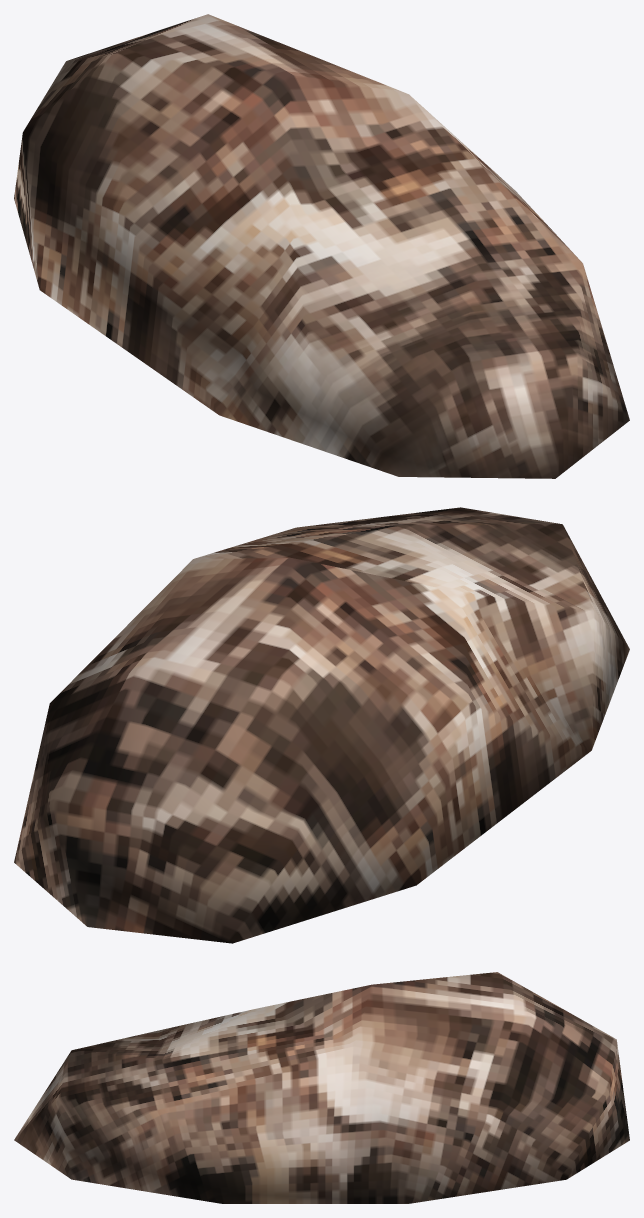
File: Bones_2.fbx
The picture shows the model from 3 angles, top to bottom: view 1: azimuth 30°, elevation 25°; view 2: azimuth 150°, elevation 25°; view 3: azimuth 270°, elevation 25°; orthographic projection. The views are drawn at different scales.
Visible parts, largest first — view 1: Icosphere.002; view 2: Icosphere.002; view 3: Icosphere.002.
Part boxes in pixels (x1,y1,x2,y2): Icosphere.002: (14,14,629,478); Icosphere.002: (14,507,629,943); Icosphere.002: (14,972,629,1203).
Size of the model in its own units: 193 by 106 by 388.
